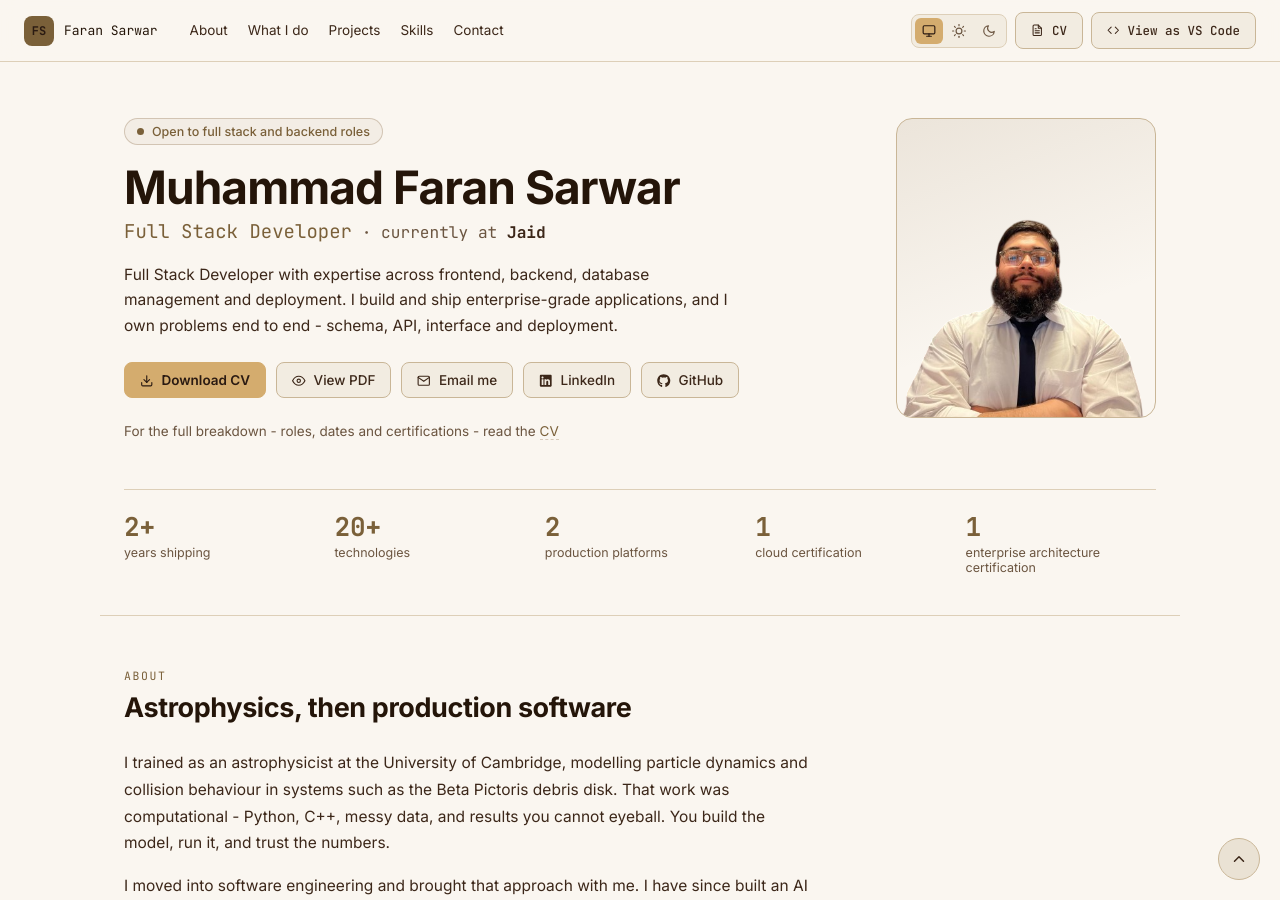
moving Profile -> CV -> Profile works
Click the button "CV" in the row of "Projects" at [1049, 30], box [1016,12,1083,49]
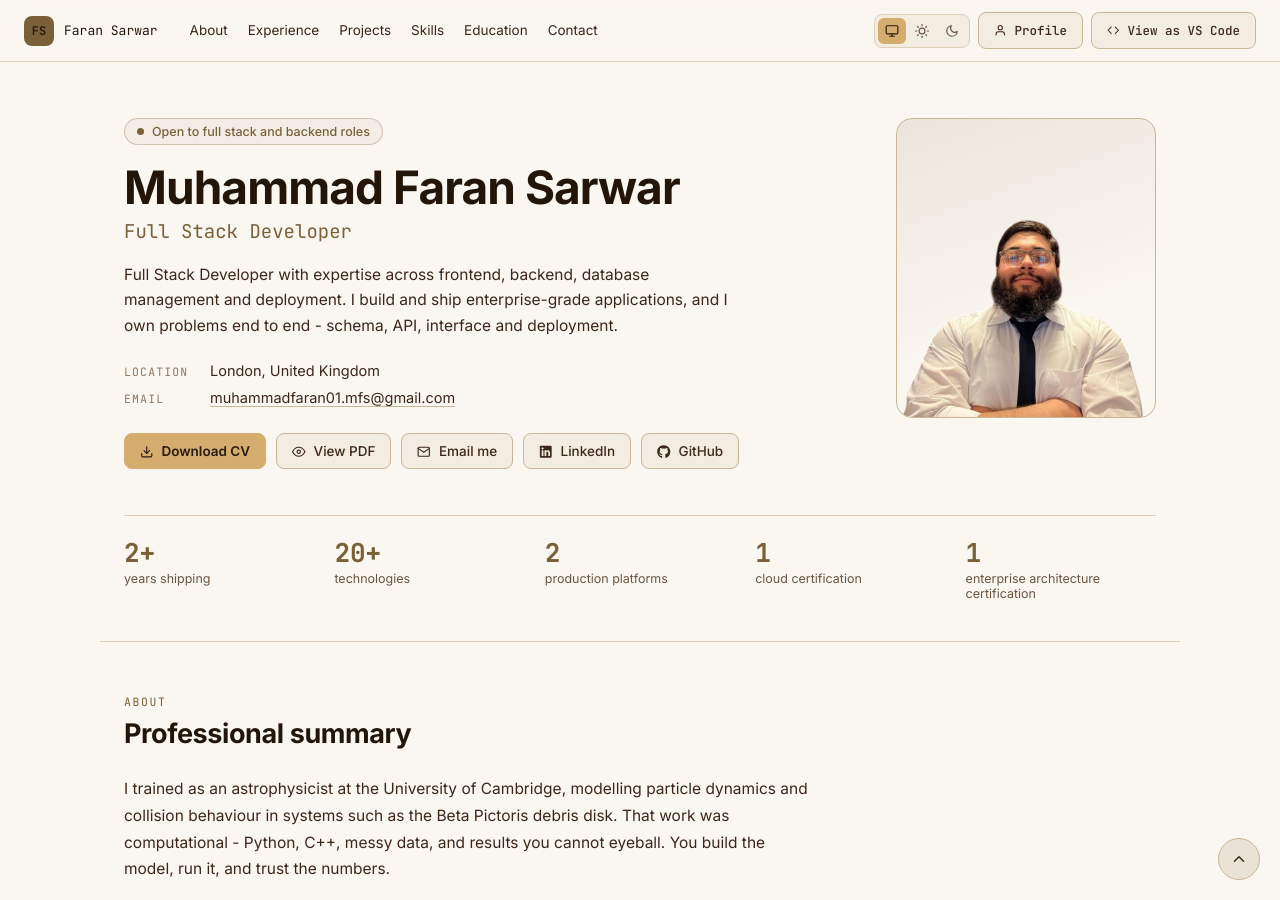
Click the button "Profile" at [1030, 30], box [978,12,1083,49]
(page scrolled)
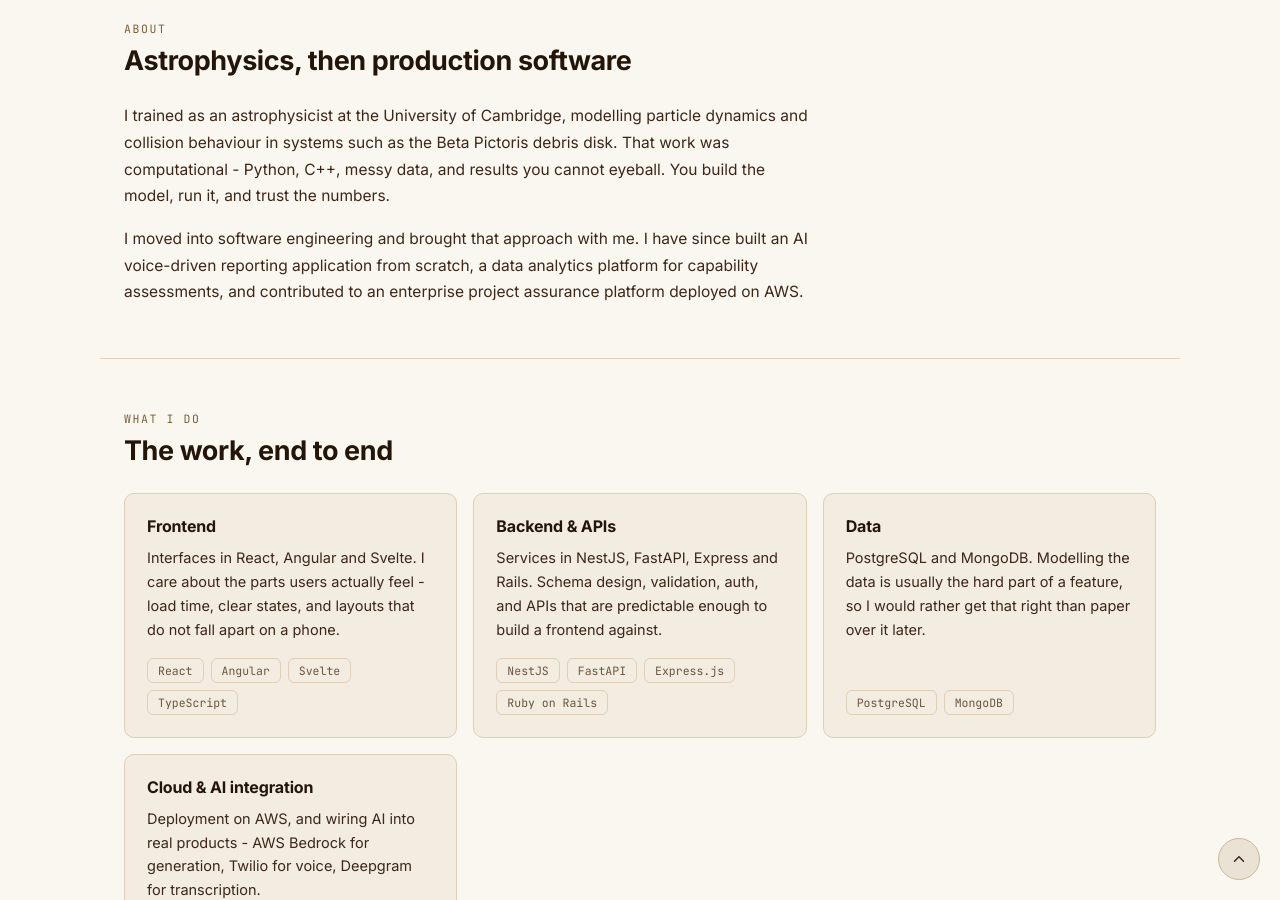
Result: the heading "The work, end to end" is shown at [124,434,393,467]
